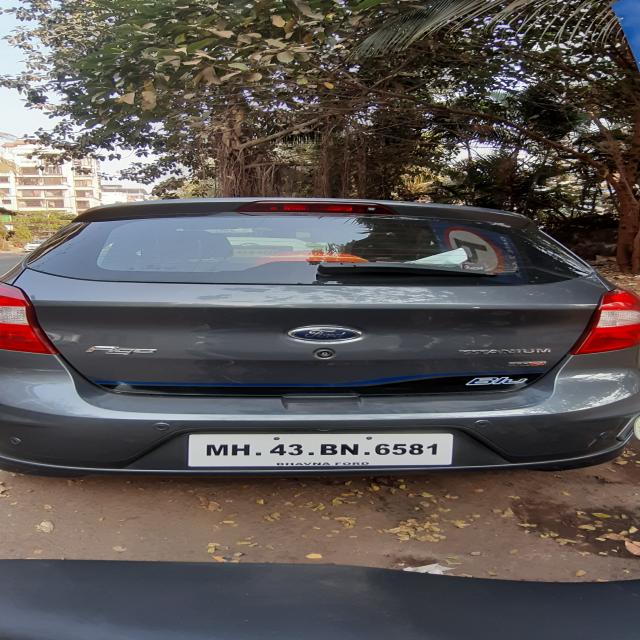Number-Plate: (186, 434, 447, 464)
